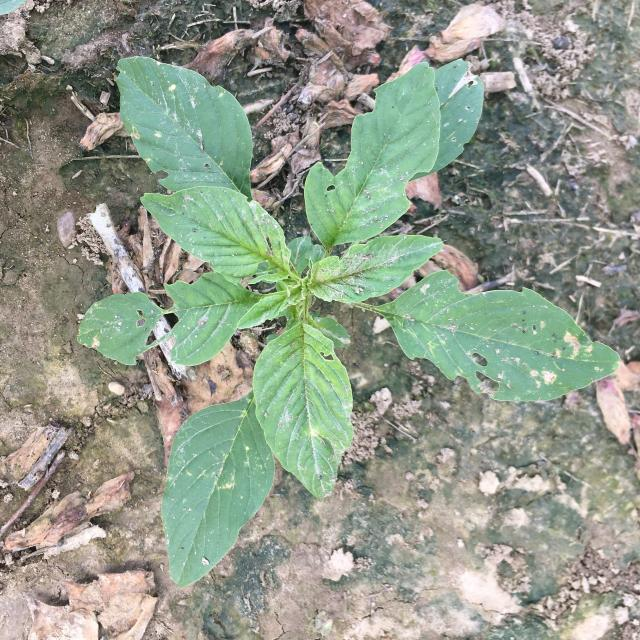PalmerAmaranth: (77, 56, 620, 589)
